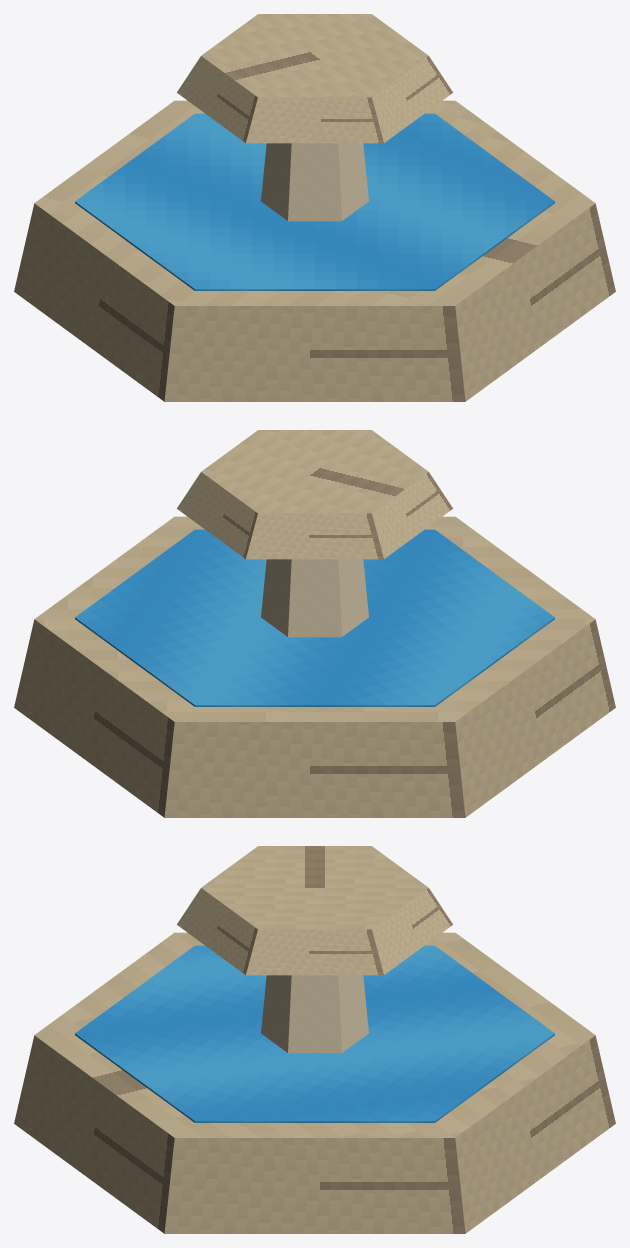
File: fountain-lod1.glb
3 renders of one model, top to bottom at view 1: azimuth 30°, elevation 25°; view 2: azimuth 150°, elevation 25°; view 3: azimuth 270°, elevation 25°, orthographic.
Parts seen in each view (by area): view 1: fountain-lod1; view 2: fountain-lod1; view 3: fountain-lod1.
Boxes of the visible parts, <box> form: fountain-lod1: <box>14,14,615,401</box>; fountain-lod1: <box>14,430,615,817</box>; fountain-lod1: <box>14,846,615,1233</box>.
Bounding box in the file's own units: 2.56 × 1.28 × 2.96.
Materials: 1 (1 with a texture image).
